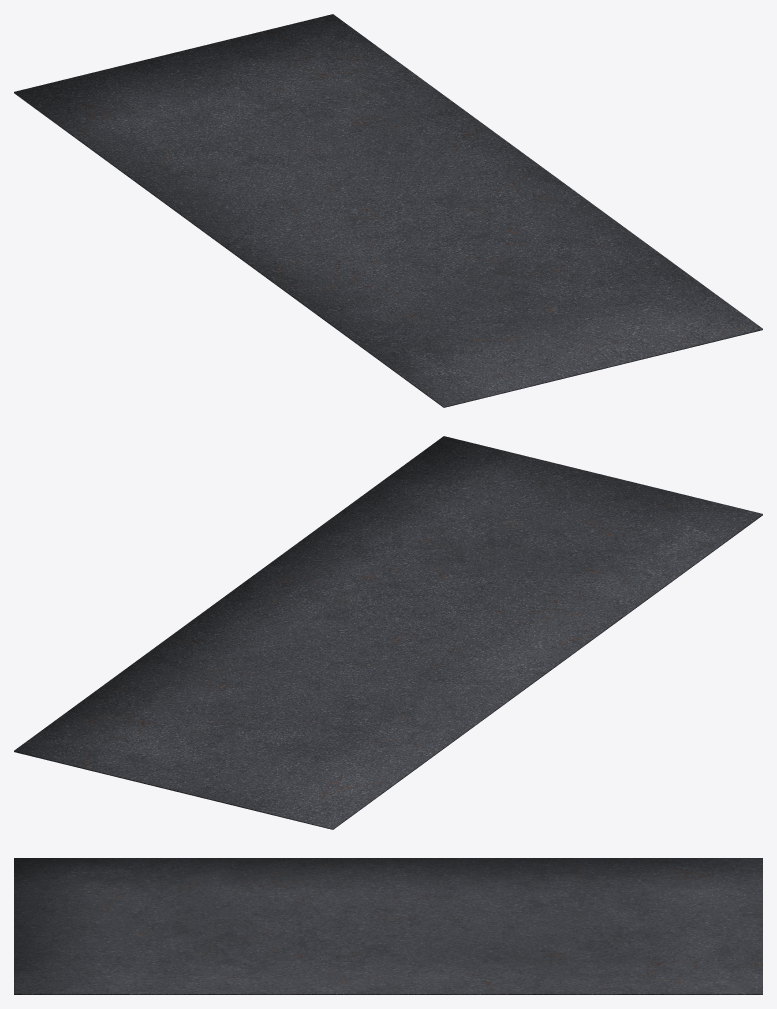
File: Alley floor.fbx
The picture shows the model from 3 angles, top to bottom: view 1: azimuth 30°, elevation 25°; view 2: azimuth 150°, elevation 25°; view 3: azimuth 270°, elevation 25°; orthographic projection. The views are drawn at different scales.
Visible parts, largest first — view 1: Plane; view 2: Plane; view 3: Plane.
Boxes of the visible parts, bbox=[...] form: Plane: bbox=[14, 14, 762, 407]; Plane: bbox=[14, 436, 762, 829]; Plane: bbox=[14, 858, 762, 994].
Bounding box in the file's own units: 2400 × 5600 × 10.
